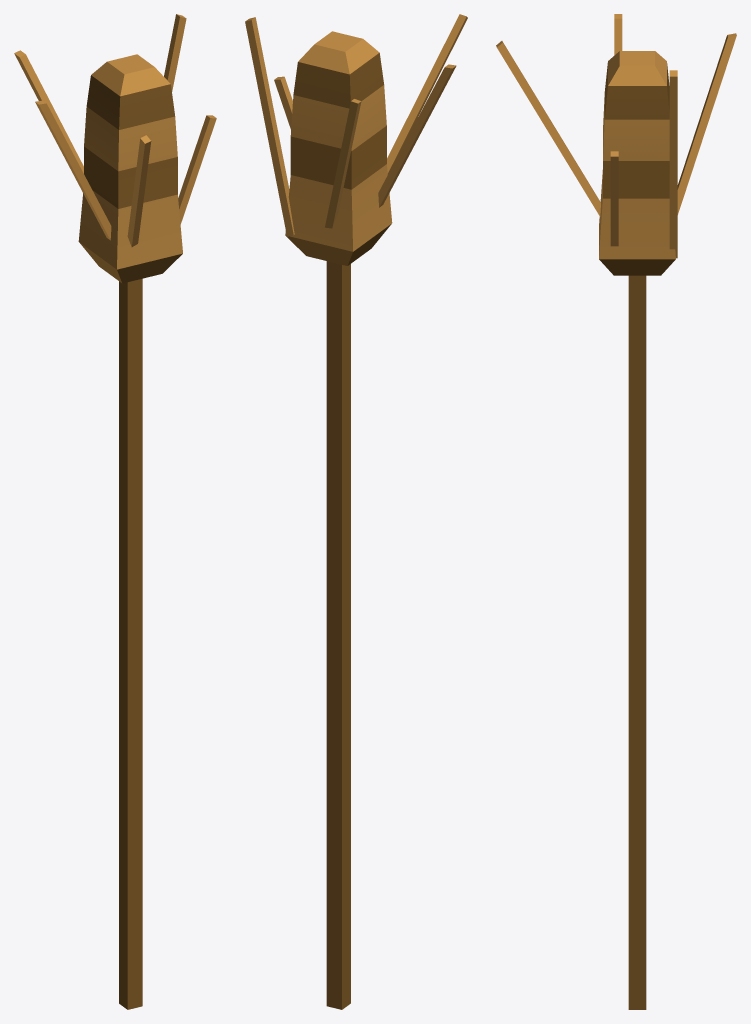
The model's file is Wheat_Single.fbx.
The picture shows the model from 3 angles, left to right: view 1: azimuth 30°, elevation 25°; view 2: azimuth 150°, elevation 25°; view 3: azimuth 270°, elevation 25°; orthographic projection. The views are drawn at different scales.
Visible parts, largest first — view 1: pCube34; view 2: pCube34; view 3: pCube34.
Boxes of the visible parts, box(x1,y1,x2,y2) form: pCube34: box(14, 14, 216, 1009); pCube34: box(245, 14, 467, 1009); pCube34: box(496, 14, 736, 1009).
Bounding box in the file's own units: 0.05 × 0.2602 × 0.0587.
